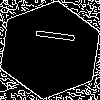I: (25, 25, 76, 45)
